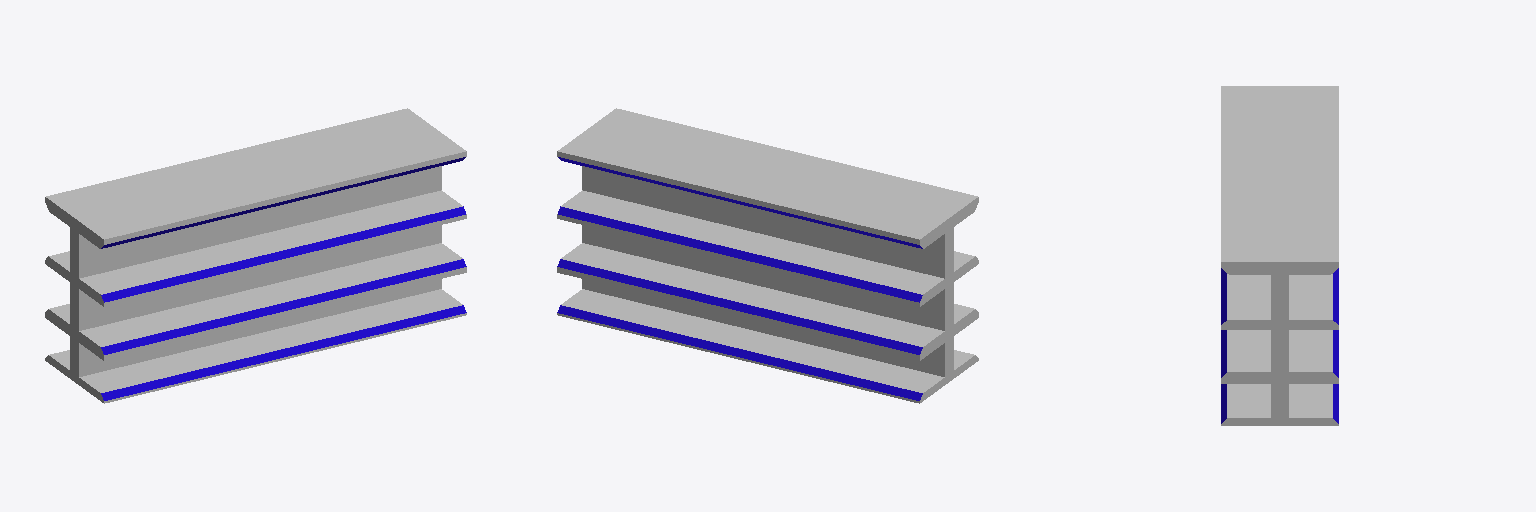
File: ShelfA.obj
3 renders of one model, left to right at view 1: azimuth 30°, elevation 25°; view 2: azimuth 150°, elevation 25°; view 3: azimuth 270°, elevation 25°, orthographic.
Visible parts, largest first — view 1: Shelf; view 2: Shelf; view 3: Shelf.
Boxes of the visible parts, x1=… form: Shelf: x1=45, y1=108, x2=466, y2=403; Shelf: x1=557, y1=108, x2=978, y2=403; Shelf: x1=1221, y1=86, x2=1338, y2=425.
Size of the model in its own units: 7.11 by 3.07 by 2.